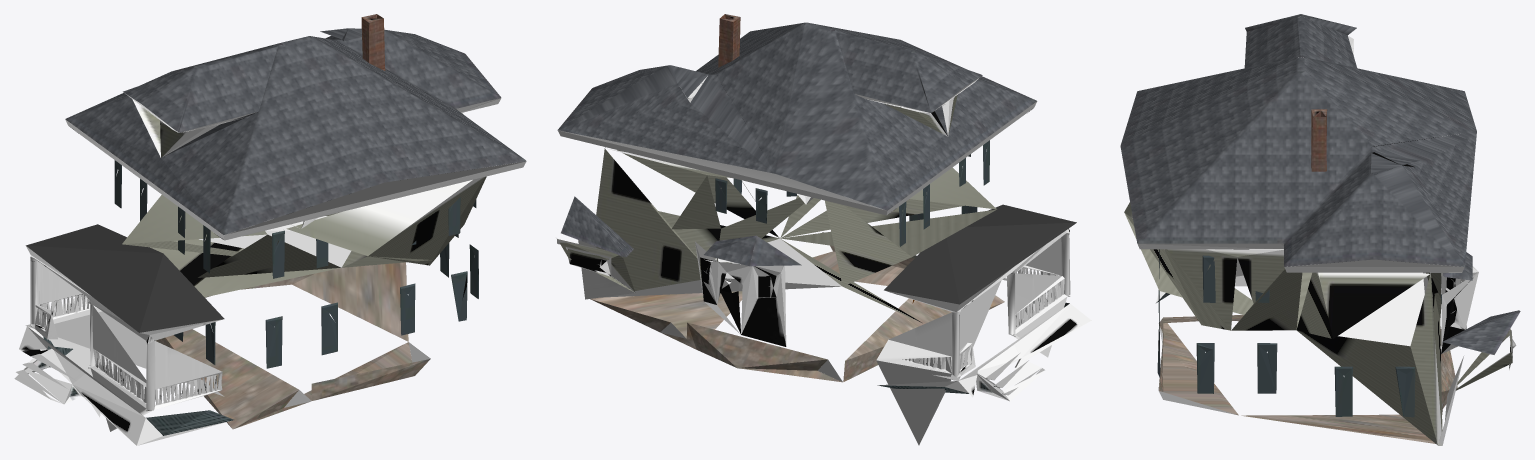
Rendered from foursquare.glb.
3 renders of one model, left to right at view 1: azimuth 30°, elevation 25°; view 2: azimuth 150°, elevation 25°; view 3: azimuth 270°, elevation 25°, orthographic. The views are drawn at different scales.
Parts seen in each view (by area): view 1: foursquare_lo; view 2: foursquare_lo; view 3: foursquare_lo.
Part boxes in pixels (x1,y1,x2,y2): foursquare_lo: (14,14,526,445); foursquare_lo: (555,14,1091,445); foursquare_lo: (1120,14,1520,445).
Bounding box in the file's own units: 13.25 × 10.56 × 9.91.
Materials: 1 (1 with a texture image).
